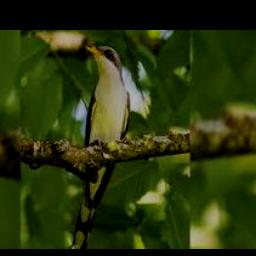Cuckoo: (72, 45, 130, 249)
